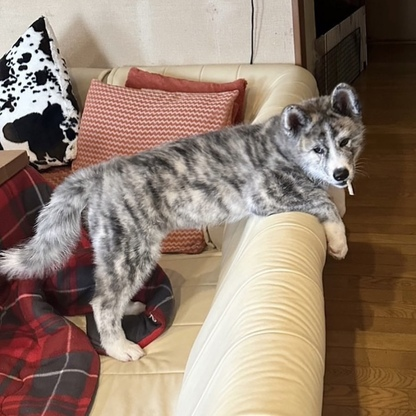akita: (1, 75, 366, 365)
